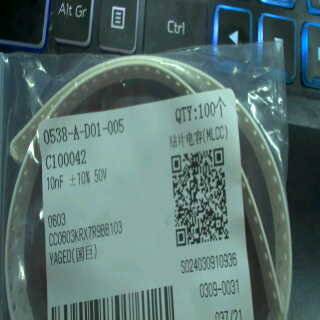10nF: (45, 171, 68, 193)
